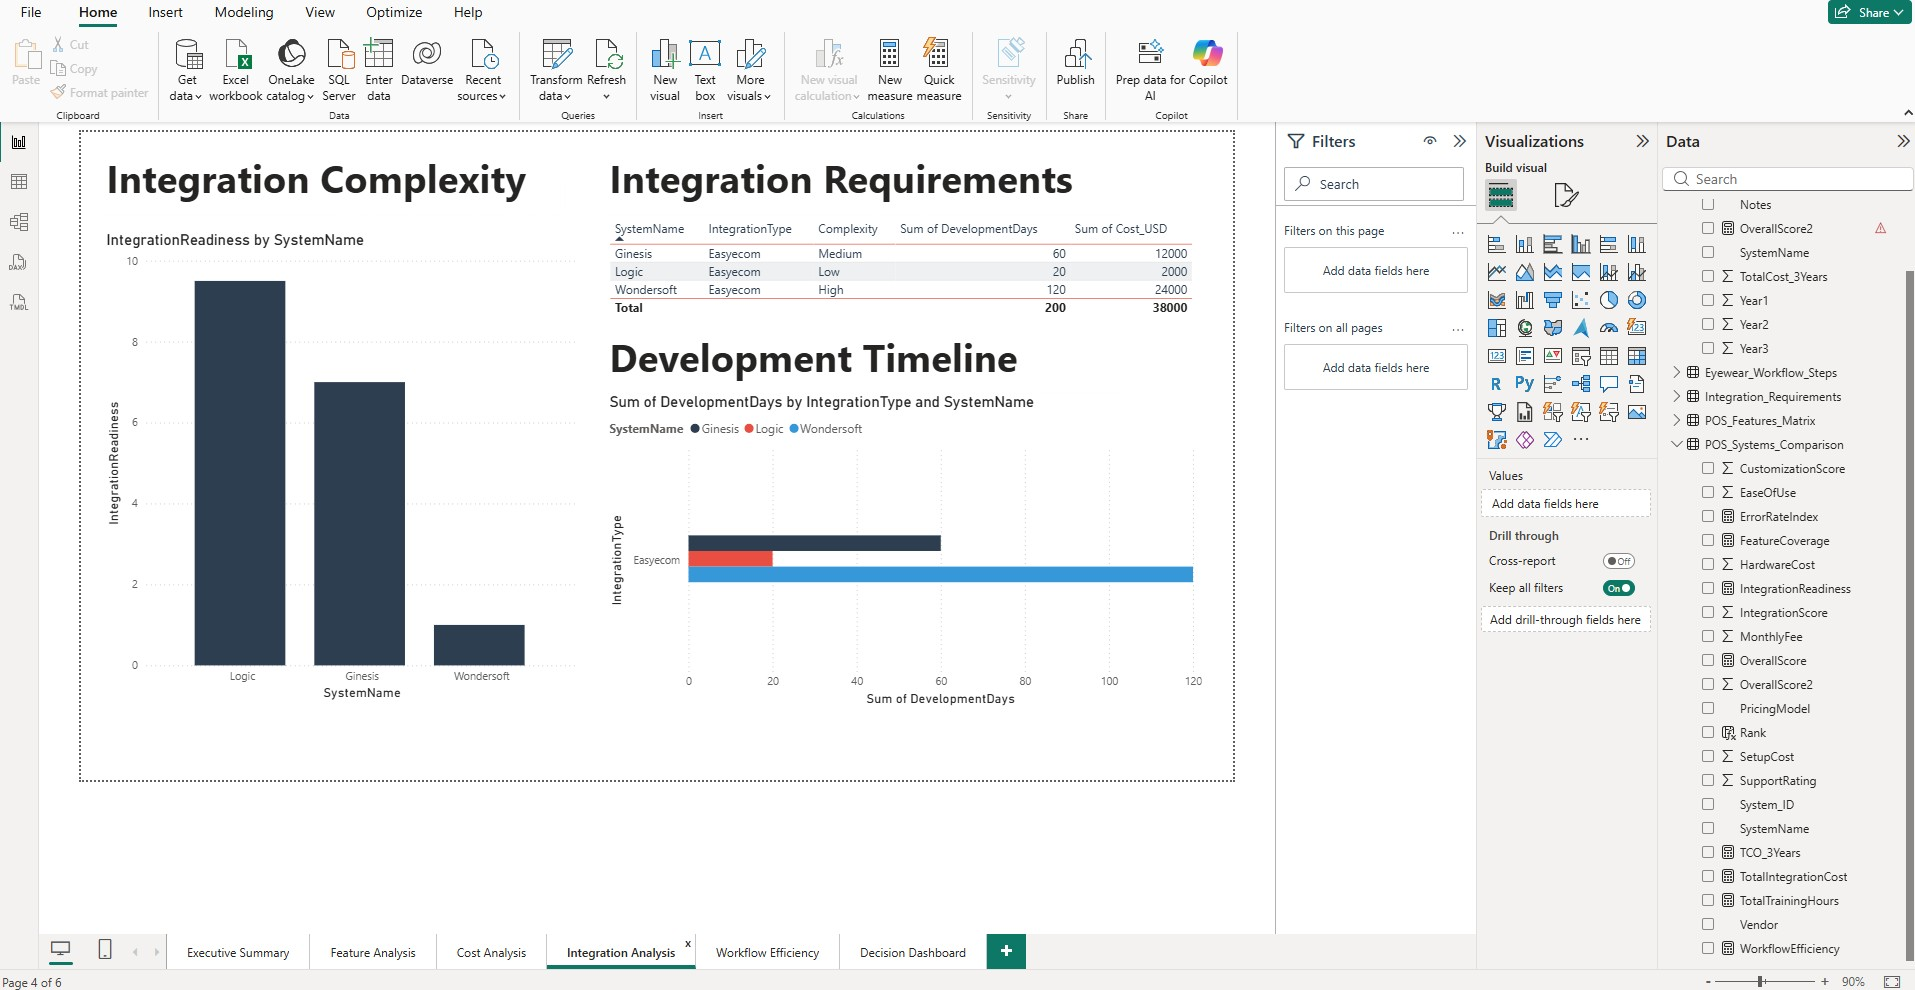

The dashboard page shown, as its layout file describes it:
{"tool":"powerbi","page":{"name":"Integration Analysis","canvas":[1280,720],"ordinal":3},"visuals":[{"type":"clusteredColumnChart","fields":{"Category":["Integration_Requirements.SystemName"],"Y":["POS_Systems_Comparison.IntegrationReadiness"]},"box":[23.3,110,533.3,526.7],"z":0},{"type":"tableEx","fields":{"Values":["Integration_Requirements.SystemName","Integration_Requirements.IntegrationType","Integration_Requirements.Complexity","Sum(Integration_Requirements.DevelopmentDays)","Sum(Integration_Requirements.Cost_USD)"]},"box":[581.7,91.7,668.3,171.7],"z":1000},{"type":"clusteredBarChart","fields":{"Category":["Integration_Requirements.IntegrationType"],"Y":["Sum(Integration_Requirements.DevelopmentDays)"],"Series":["Integration_Requirements.SystemName"]},"box":[581.7,290,668.3,351.7],"z":2000},{"type":"textbox","box":[23.3,16.7,515,75],"z":3000},{"type":"textbox","box":[581.7,16.7,571.7,75],"z":4000},{"type":"textbox","box":[581.7,215,571.7,75],"z":5000}]}

Visuals, with their boxes on the page's 1280x720 design canvas (x1, y1, x2, y2). These are canvas units, not pixel positions in the 1915x990 screenshot, which may show the page scaled, cropped or inside an application window:
clusteredColumnChart - Integration_Requirements.SystemName x POS_Systems_Comparison.IntegrationReadiness: {"x1": 23, "y1": 110, "x2": 557, "y2": 637}
tableEx - Integration_Requirements.SystemName x Integration_Requirements.IntegrationType: {"x1": 582, "y1": 92, "x2": 1250, "y2": 263}
clusteredBarChart - Integration_Requirements.IntegrationType x Sum(Integration_Requirements.DevelopmentDays): {"x1": 582, "y1": 290, "x2": 1250, "y2": 642}
textbox: {"x1": 23, "y1": 17, "x2": 538, "y2": 92}
textbox: {"x1": 582, "y1": 17, "x2": 1153, "y2": 92}
textbox: {"x1": 582, "y1": 215, "x2": 1153, "y2": 290}
